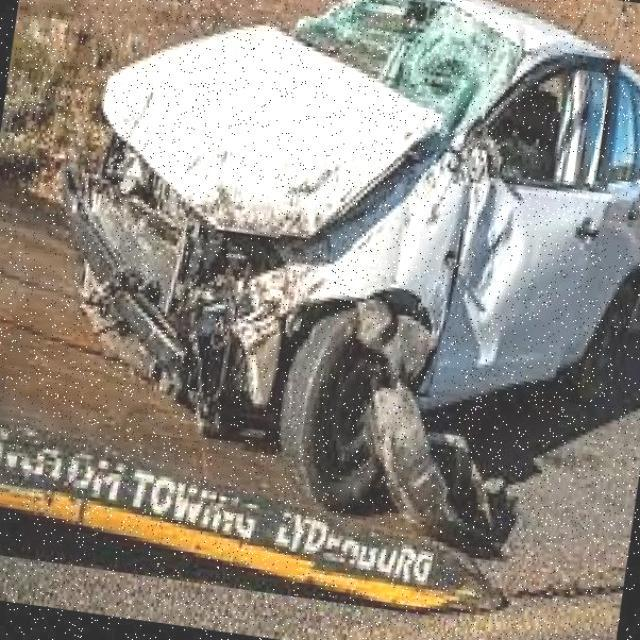accident: (15, 0, 640, 577)
